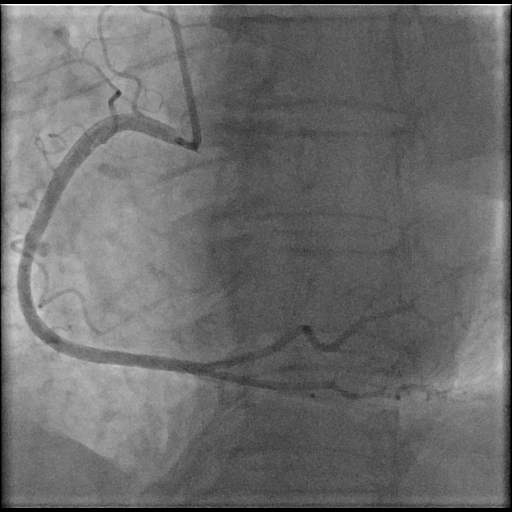RCA: (18, 115, 366, 399)
catherter: (169, 6, 199, 130)
